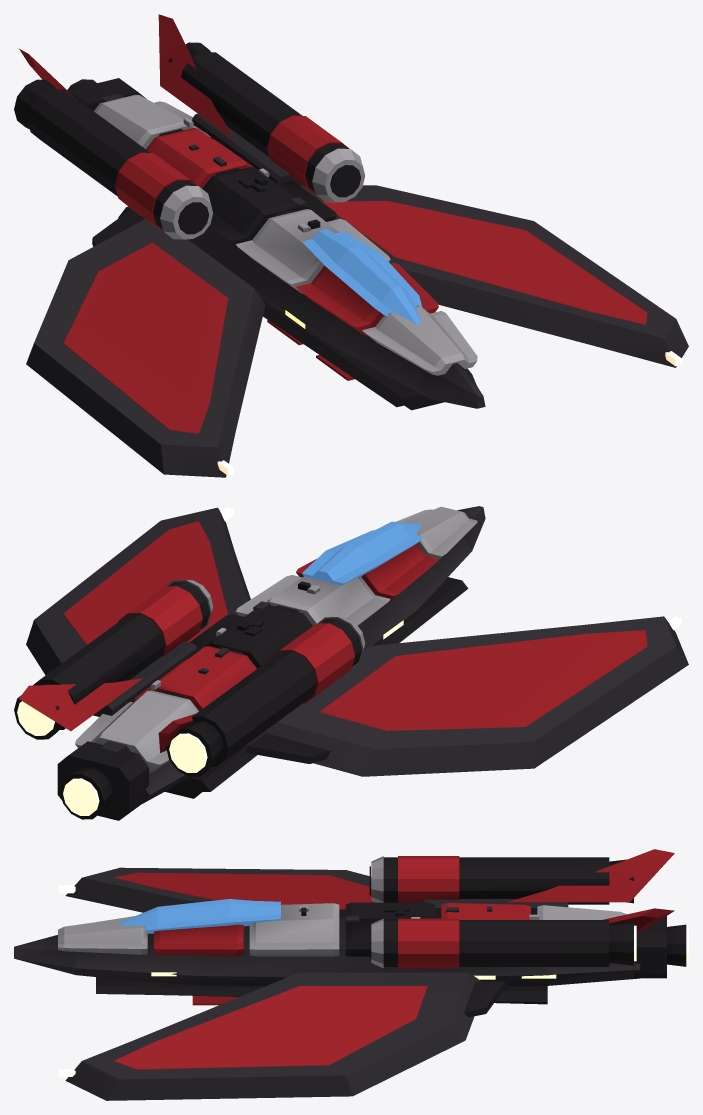
Rendered from bomber.glb.
3 views of the same model, one above another, from view 1: azimuth 30°, elevation 25°; view 2: azimuth 150°, elevation 25°; view 3: azimuth 270°, elevation 25° (orthographic). The views are drawn at different scales.
Visible parts, largest first — view 1: hull_bomber; view 2: hull_bomber; view 3: hull_bomber.
Part boxes in pixels (x1=…): hull_bomber: x1=14, y1=14, x2=688, y2=477; hull_bomber: x1=14, y1=506, x2=688, y2=820; hull_bomber: x1=14, y1=849, x2=688, y2=1100.
Bounding box in the file's own units: 24.86 × 6.2 × 32.88.
